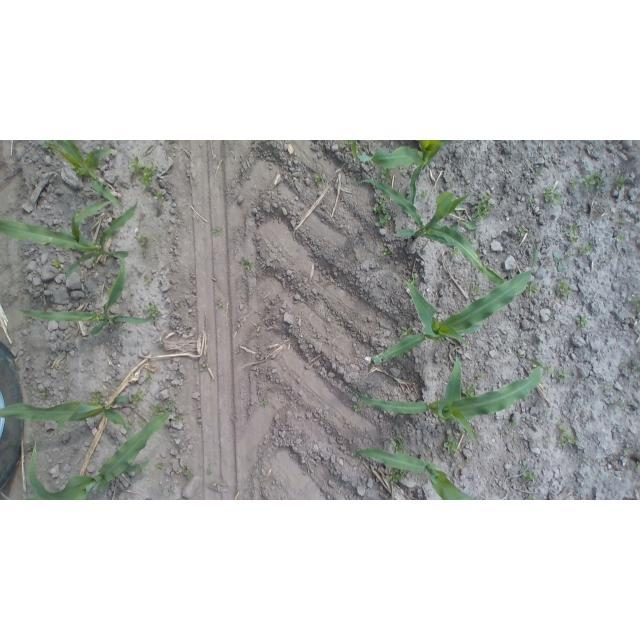Maize: (363, 237, 538, 371), (354, 177, 512, 291), (354, 355, 546, 443), (0, 405, 174, 500), (19, 249, 163, 337), (1, 198, 142, 278), (349, 141, 457, 212), (353, 444, 481, 500), (45, 141, 127, 212), (1, 390, 136, 430)
Weeds: (129, 158, 160, 186), (470, 192, 494, 221), (374, 197, 393, 232), (580, 172, 606, 191), (557, 423, 575, 449), (519, 460, 538, 484), (541, 184, 563, 204), (145, 303, 164, 322), (443, 435, 459, 455), (551, 251, 565, 273), (576, 241, 593, 259), (311, 171, 329, 188), (388, 468, 408, 483), (555, 280, 572, 296), (90, 389, 106, 406), (134, 234, 151, 250), (178, 463, 192, 482), (237, 254, 253, 270), (566, 225, 579, 244), (149, 402, 164, 418), (391, 441, 408, 455), (517, 224, 531, 240), (525, 283, 541, 297), (338, 140, 360, 150), (407, 272, 420, 288), (558, 370, 571, 386), (53, 259, 66, 275), (201, 359, 215, 373), (576, 316, 589, 331), (382, 166, 395, 180), (132, 391, 145, 405), (614, 174, 626, 189), (462, 384, 477, 396), (144, 274, 157, 287), (42, 140, 55, 153), (470, 286, 483, 298), (448, 247, 460, 260), (454, 427, 467, 439), (399, 326, 413, 337), (211, 227, 225, 238), (634, 292, 640, 317), (508, 496, 537, 501), (173, 415, 185, 427), (506, 421, 519, 432), (154, 461, 169, 470), (532, 167, 543, 179), (542, 365, 554, 376), (379, 247, 389, 260), (568, 175, 577, 189), (166, 400, 175, 413), (261, 395, 270, 408), (143, 371, 153, 382), (354, 402, 362, 415), (420, 189, 430, 199), (526, 196, 536, 206), (156, 191, 166, 201), (632, 363, 640, 375), (215, 300, 225, 309), (603, 382, 614, 390), (633, 459, 640, 470), (616, 233, 624, 242), (140, 420, 148, 429), (178, 299, 186, 308), (617, 214, 624, 224), (565, 251, 573, 259), (466, 457, 474, 465), (476, 373, 484, 381), (623, 447, 631, 454), (619, 401, 626, 409), (577, 376, 584, 384)
